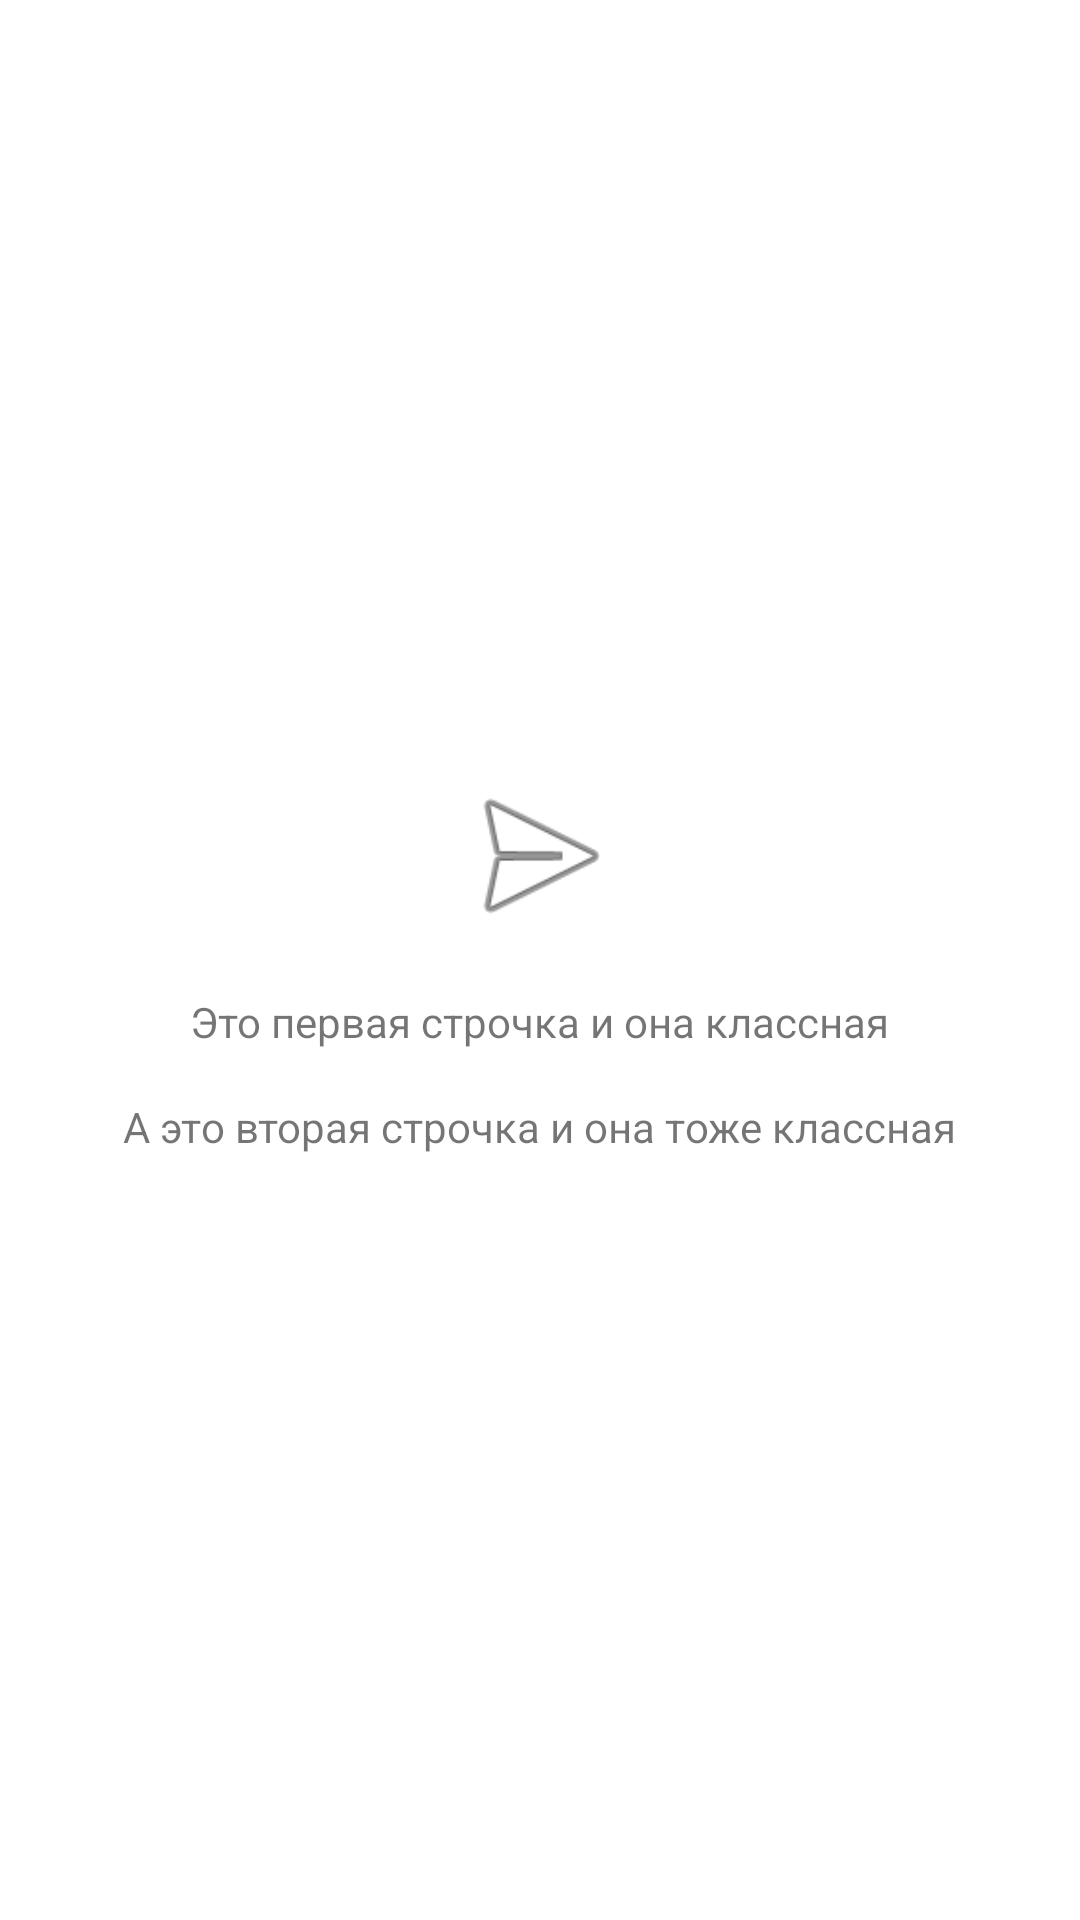

Point at icon controls on the screen. Image size 1080×1920, points as (x=x, y=y).
send: (x=541, y=856)
